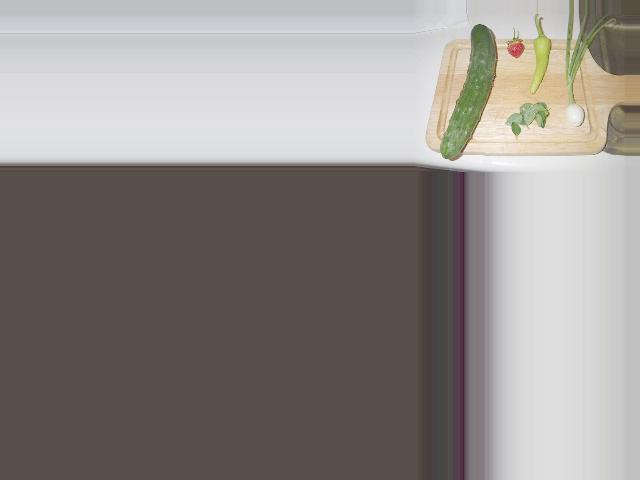cucumber: (439, 25, 496, 159)
